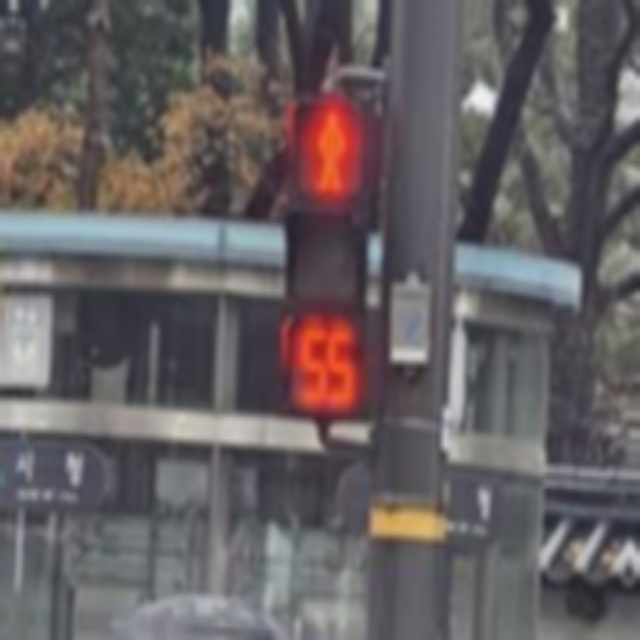red_light: (281, 314, 363, 412), (289, 101, 365, 206)
